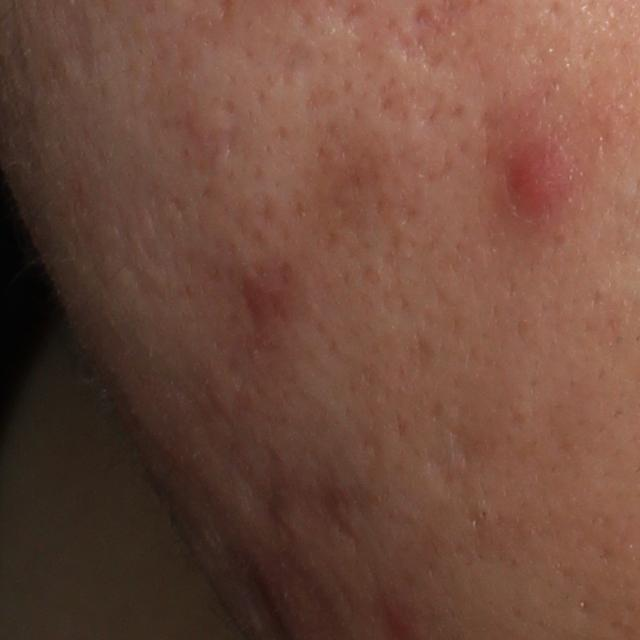atrophic_scar: (422, 413, 495, 503), (57, 5, 97, 82), (280, 35, 315, 85)
papule: (496, 133, 583, 230), (379, 602, 417, 639)
